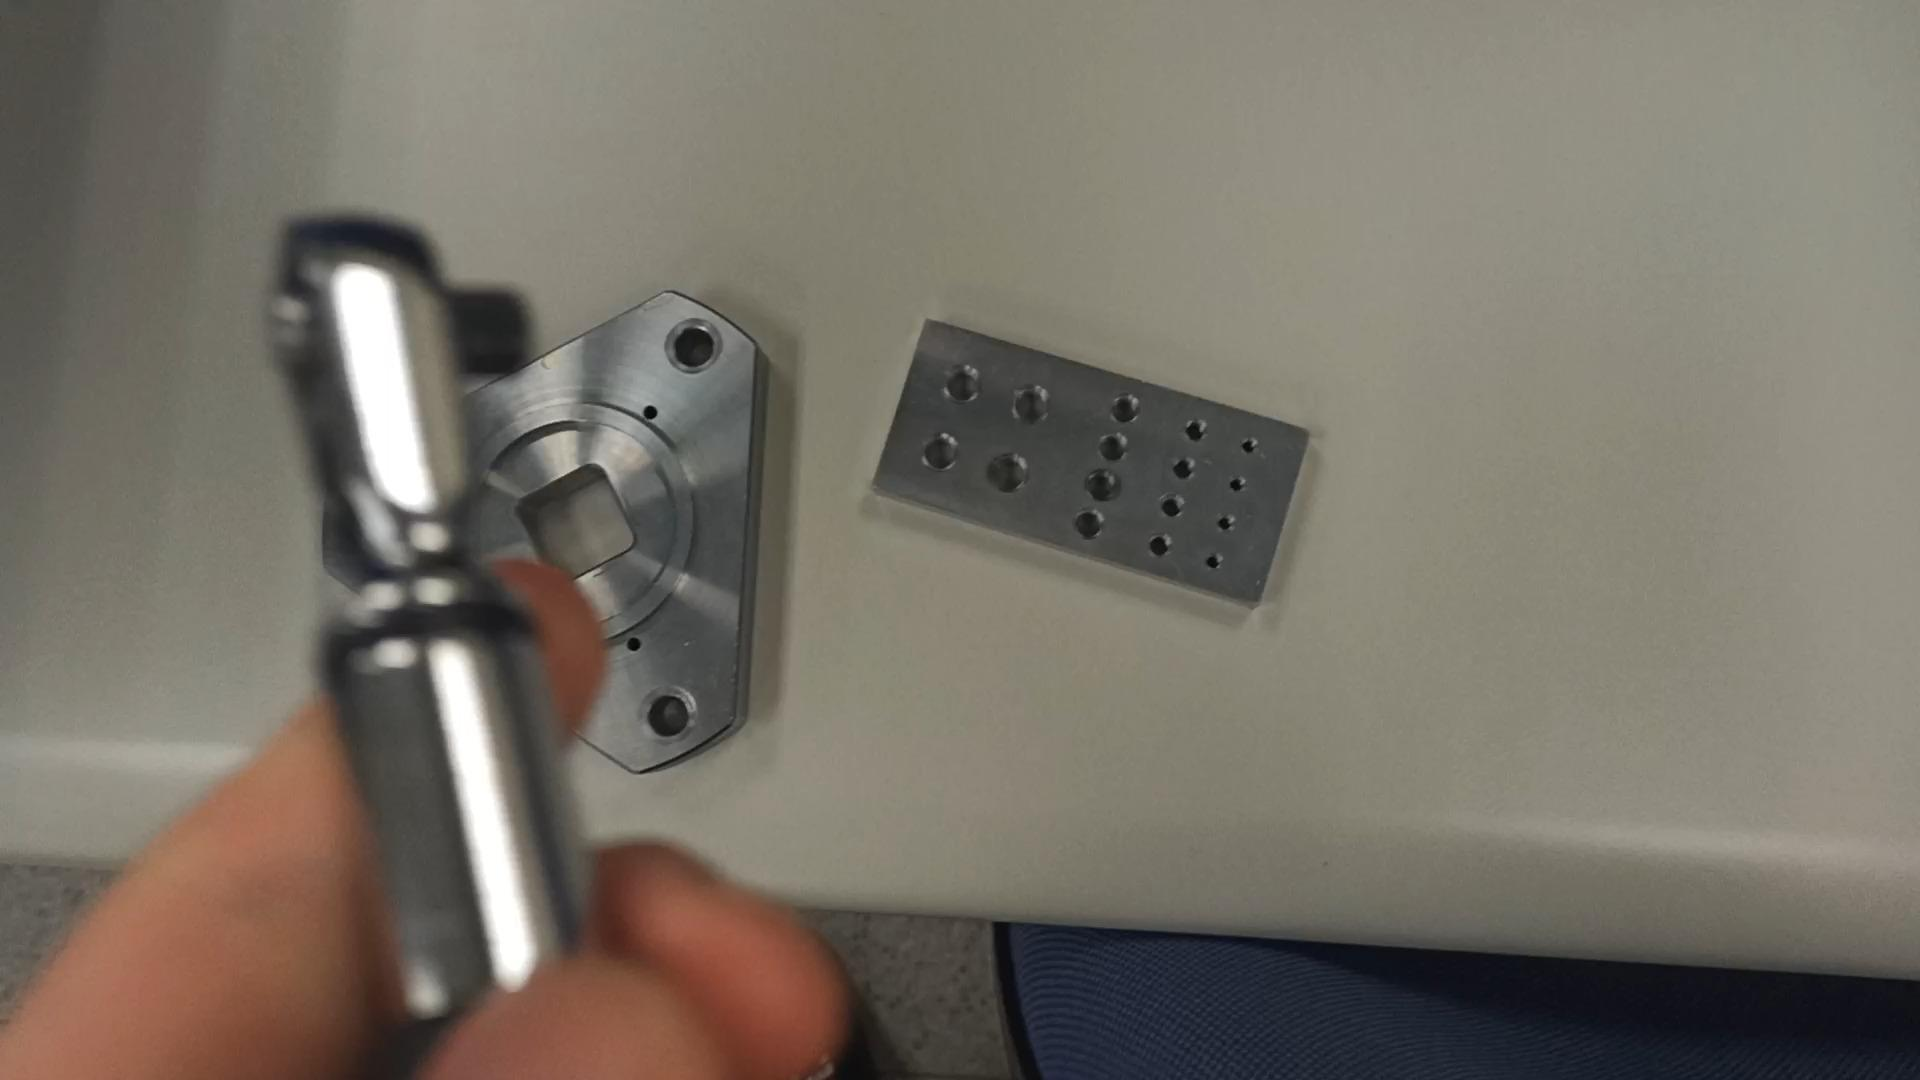hole: (638, 686, 703, 748), (666, 318, 725, 379), (981, 449, 1028, 498), (1010, 381, 1056, 430), (919, 429, 964, 476), (940, 363, 983, 410), (1088, 470, 1126, 507), (1100, 430, 1136, 466), (1110, 391, 1145, 426), (1076, 507, 1111, 542), (1173, 454, 1203, 483), (1163, 494, 1192, 523), (1145, 530, 1173, 559), (1187, 419, 1215, 448), (1205, 551, 1227, 574), (1237, 436, 1259, 459), (1215, 513, 1236, 536), (1227, 477, 1248, 499)
